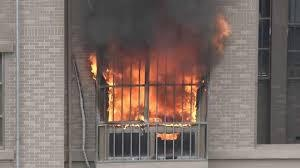fire: (99, 51, 204, 128)
